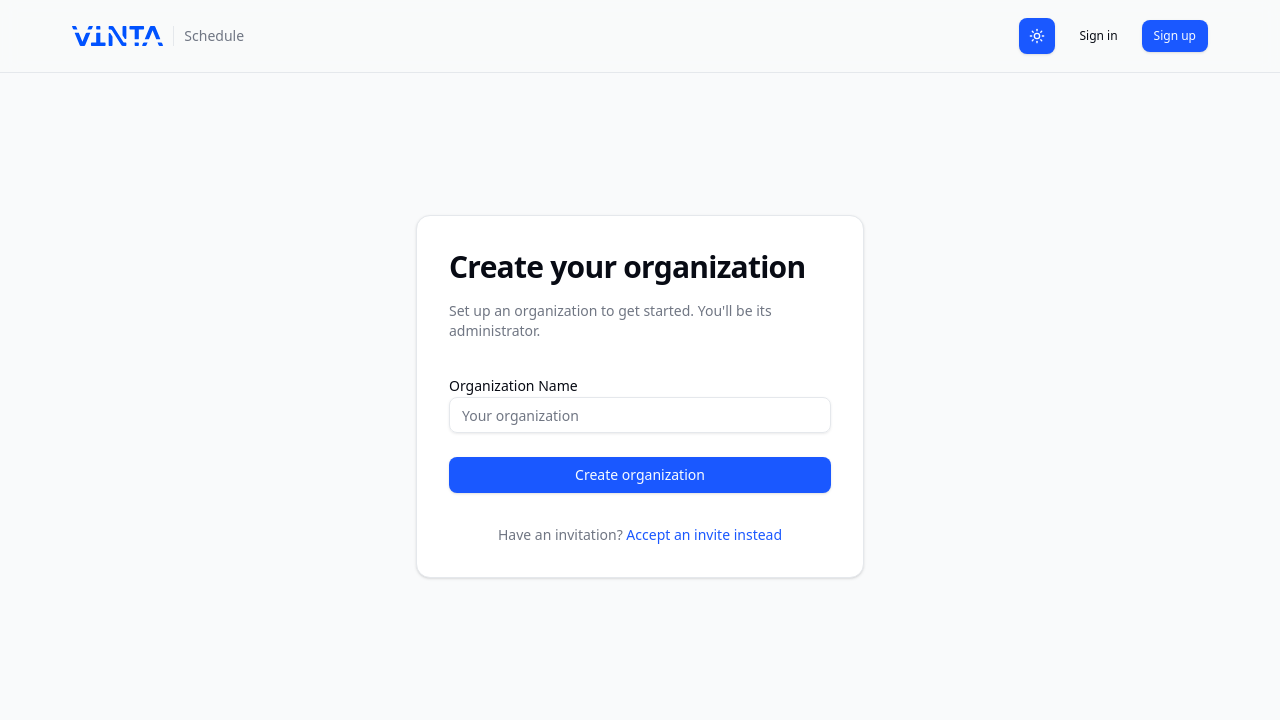
Scenario: OnboardingPage › blocks submission when name is empty (client-side validation)
Click the button "Create organization" at coordinates (640, 475), box [449,457,831,493]
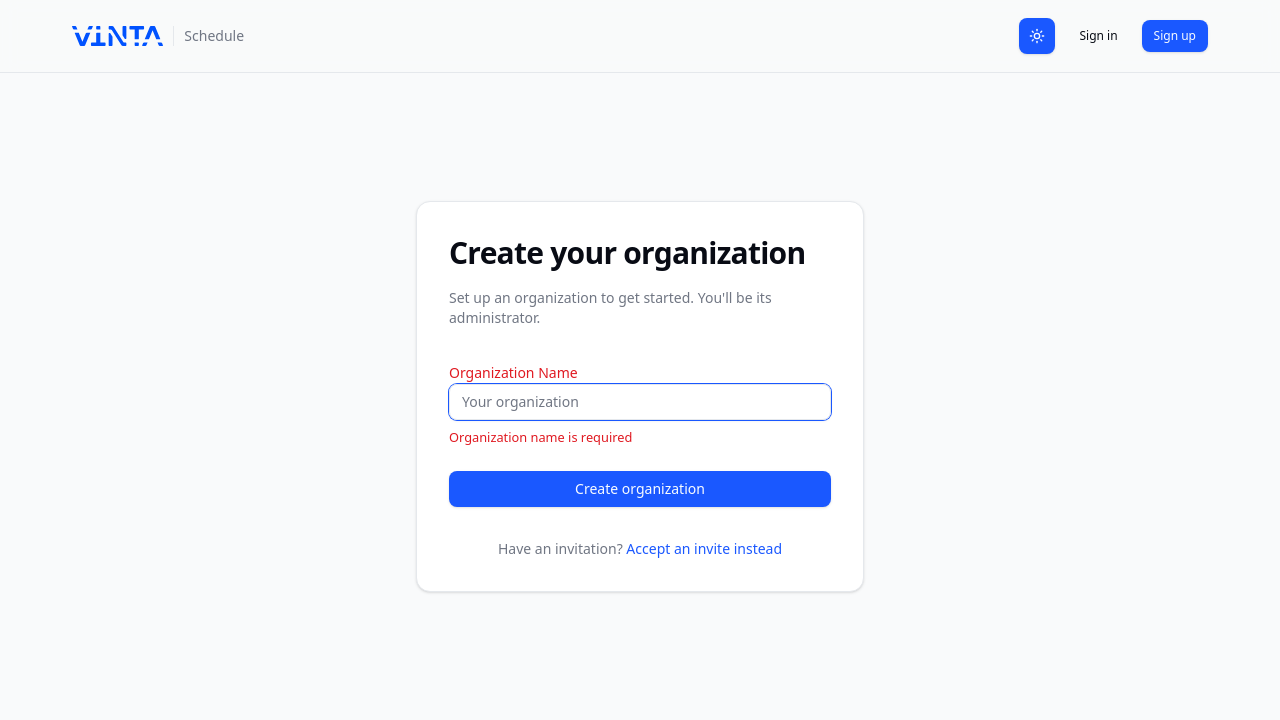
Expected: the text "Organization name is required" is shown, [449,428,632,446]
